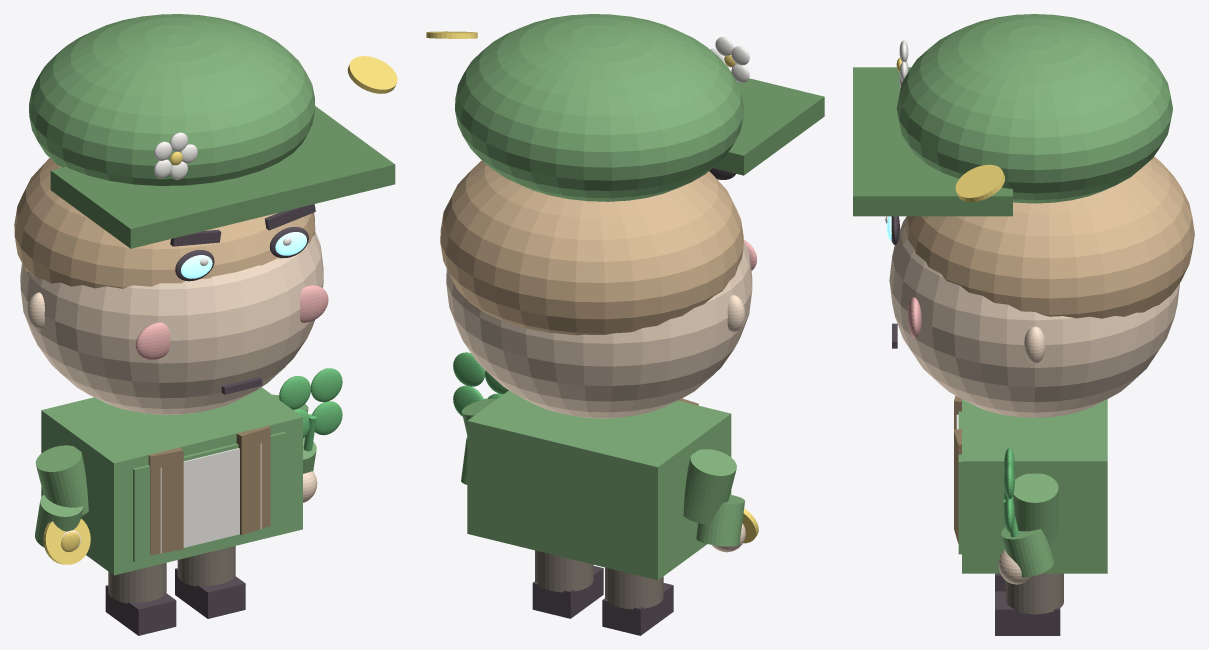
File: lucky.glb
The picture shows the model from 3 angles, left to right: view 1: azimuth 30°, elevation 25°; view 2: azimuth 150°, elevation 25°; view 3: azimuth 270°, elevation 25°; orthographic projection.
Visible parts, largest first — view 1: CapDome, Head, Coat, CapBrim, HairCap, ShirtFront, CoatFront, Strap_L, Strap_R, UpperArm_L, Shoe_L, Shoe_R (+15 smaller); view 2: CapDome, HairCap, Coat, Head, CapBrim, UpperArm_L, Leg_L, Leg_R, Shoe_L, Shoe_R, Forearm_L, CloverLeaf_0; view 3: CapDome, HairCap, Head, Coat, CapBrim, UpperArm_R, Leg_R, Shoe_R, Forearm_R, Coin_Float, Ear_R, Strap_R (+1 smaller).
Part boxes in pixels (x1=…): CapDome: x1=29, y1=14, x2=315, y2=185; Head: x1=20, y1=231, x2=323, y2=415; Coat: x1=41, y1=387, x2=302, y2=575; CapBrim: x1=50, y1=106, x2=395, y2=248; HairCap: x1=14, y1=158, x2=315, y2=288; ShirtFront: x1=160, y1=443, x2=261, y2=553; CoatFront: x1=133, y1=432, x2=285, y2=562; Strap_L: x1=148, y1=447, x2=183, y2=555; Strap_R: x1=236, y1=426, x2=270, y2=535; UpperArm_L: x1=35, y1=445, x2=88, y2=515; Shoe_L: x1=105, y1=585, x2=176, y2=635; Shoe_R: x1=175, y1=568, x2=245, y2=618; CapDome: x1=455, y1=14, x2=743, y2=201; HairCap: x1=440, y1=160, x2=743, y2=335; Coat: x1=467, y1=390, x2=731, y2=580; Head: x1=446, y1=240, x2=752, y2=418; CapBrim: x1=713, y1=78, x2=824, y2=175; UpperArm_L: x1=683, y1=449, x2=736, y2=524; Leg_L: x1=605, y1=567, x2=663, y2=609; Leg_R: x1=535, y1=550, x2=593, y2=592; Shoe_L: x1=602, y1=583, x2=673, y2=635; Shoe_R: x1=532, y1=566, x2=603, y2=618; Forearm_L: x1=696, y1=494, x2=744, y2=546; CloverLeaf_0: x1=453, y1=352, x2=484, y2=386; CapDome: x1=896, y1=14, x2=1172, y2=203; HairCap: x1=905, y1=156, x2=1194, y2=318; Head: x1=889, y1=217, x2=1179, y2=417; Coat: x1=962, y1=399, x2=1107, y2=573; CapBrim: x1=853, y1=67, x2=1012, y2=216; UpperArm_R: x1=1013, y1=473, x2=1058, y2=544; Leg_R: x1=1005, y1=573, x2=1063, y2=614; Shoe_R: x1=995, y1=591, x2=1060, y2=635; Forearm_R: x1=1001, y1=527, x2=1053, y2=577; Coin_Float: x1=955, y1=164, x2=1004, y2=201; Ear_R: x1=1024, y1=326, x2=1045, y2=363; Strap_R: x1=954, y1=429, x2=961, y2=543.
Bounding box in the file's own units: 1.24 × 2 × 1.08.
